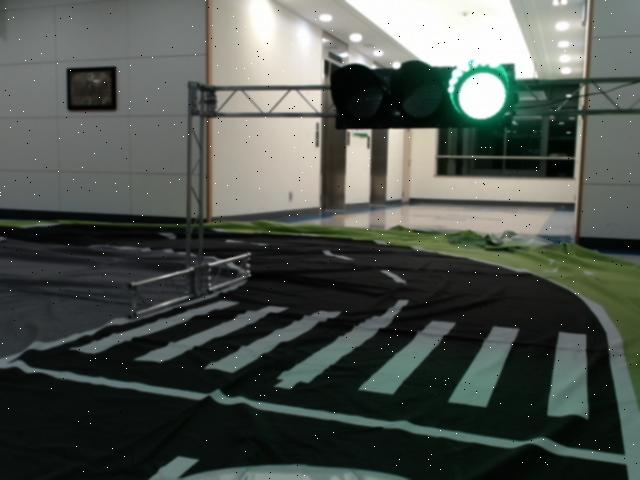crosswalk: (68, 297, 592, 421)
traffic light-green-: (330, 62, 518, 127)
